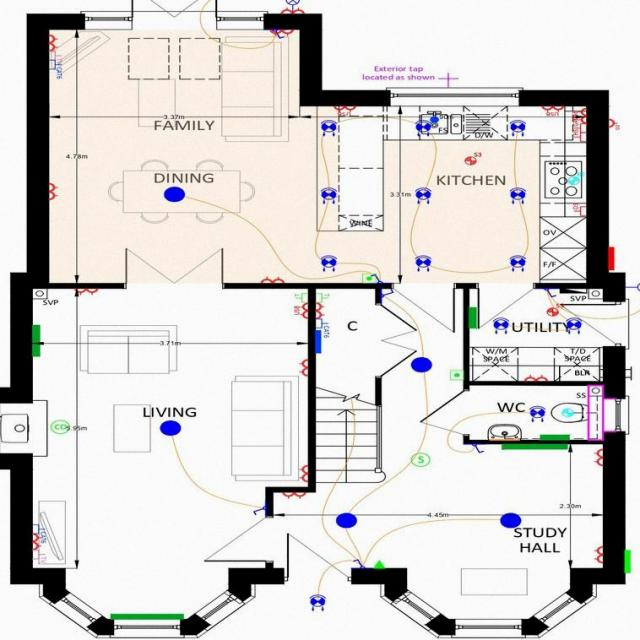BT Entry Point: (373, 559, 383, 567)
Cat 6 Data Socket: (31, 523, 45, 543), (315, 317, 328, 337), (48, 59, 61, 79)
Ceiling Mounted Continuous Extract FanWith Boost Mode Activated By Light Switch: (562, 407, 572, 416)
Ceiling Mounted Continuous Extract FanWith Local Boost Switch: (464, 151, 481, 165), (546, 302, 563, 316)
Co-Ax TV Socket: (48, 50, 61, 63), (32, 550, 45, 563)
Consumer Unit: (559, 288, 586, 293)
Double Socket: (269, 28, 294, 36), (282, 491, 305, 499), (48, 182, 58, 200), (592, 448, 602, 466), (298, 464, 308, 482), (74, 287, 96, 295), (523, 373, 546, 380), (260, 275, 283, 282), (279, 6, 304, 12), (315, 302, 324, 318), (48, 34, 57, 50), (593, 546, 602, 562), (31, 534, 41, 548), (299, 359, 307, 376), (577, 108, 586, 122)
Electric Meter Box: (607, 246, 614, 269)
External Wall Light: (625, 281, 640, 291), (285, 0, 298, 9)
Gas Meter Box: (623, 548, 630, 572)
Grid Switch: (573, 110, 585, 131)
Hob Switch: (573, 127, 585, 141)
Light Switch: (351, 558, 365, 567), (369, 273, 382, 282), (253, 506, 265, 515), (472, 443, 483, 452), (544, 288, 556, 296), (382, 288, 392, 297), (274, 29, 284, 38)
Low Energy Downlighter: (319, 119, 336, 136), (508, 119, 525, 136), (320, 186, 336, 204), (320, 254, 336, 272), (414, 186, 430, 204), (509, 186, 525, 204), (565, 316, 581, 334), (414, 119, 430, 136), (414, 254, 430, 271), (509, 254, 525, 271), (528, 405, 544, 422), (309, 594, 325, 611), (493, 316, 508, 334)
Low Energy Pendant Light: (162, 186, 185, 202), (409, 356, 432, 372), (498, 512, 521, 528), (159, 420, 180, 436), (336, 512, 356, 527)
Mains Wired Smoke Detector: (409, 452, 430, 465)
Outside Socket: (608, 118, 619, 130)
Outside Tap: (437, 72, 458, 86)
Oven Switch: (573, 203, 585, 216)
Programmable Room Thermostat: (450, 369, 462, 379), (362, 273, 375, 281)
Radiator: (109, 613, 182, 619), (31, 324, 40, 356), (500, 444, 566, 448), (468, 306, 476, 328), (540, 434, 569, 439)
Recirculating Extractor Fan: (568, 171, 584, 184)
Telephone Socket: (315, 292, 330, 302), (294, 292, 307, 302)
USB Double Socket: (293, 302, 307, 318), (332, 105, 354, 115), (542, 106, 563, 116)
Underfloor Heating Manifold: (315, 328, 321, 353)
Water Entry Position: (429, 115, 438, 122)
